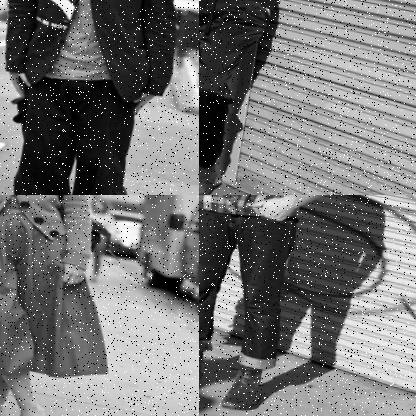jacket: (0, 0, 196, 98)
jean: (199, 198, 305, 373)
pants: (0, 62, 148, 195), (199, 0, 272, 191)
polar: (0, 195, 114, 277)
shirt: (199, 195, 357, 235)
skirt: (0, 195, 134, 398)
